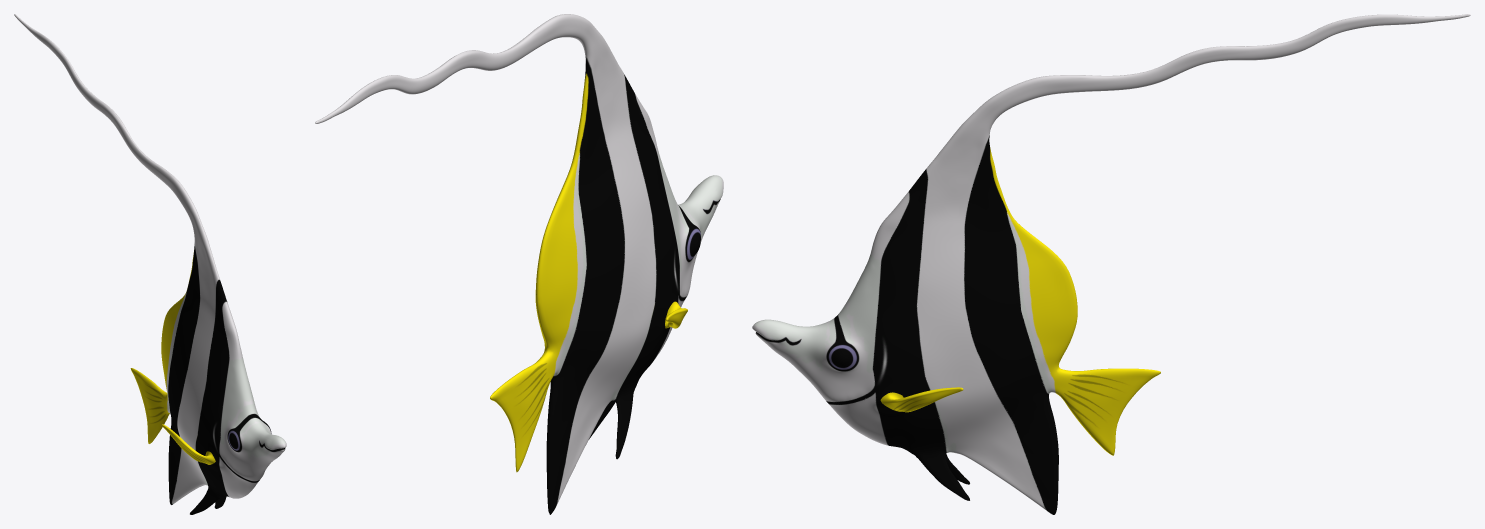
File: Angel Fish 2.fbx
3 renders of one model, left to right at view 1: azimuth 30°, elevation 25°; view 2: azimuth 150°, elevation 25°; view 3: azimuth 270°, elevation 25°, orthographic. The views are drawn at different scales.
Parts seen in each view (by area): view 1: node_id129; view 2: node_id129; view 3: node_id129.
Part boxes in pixels (x1=…): node_id129: x1=14, y1=14, x2=286, y2=514; node_id129: x1=315, y1=14, x2=723, y2=514; node_id129: x1=752, y1=14, x2=1470, y2=514.
Size of the model in its own units: 0.125 by 0.512 by 0.6656.
1 material, 1 textured.
